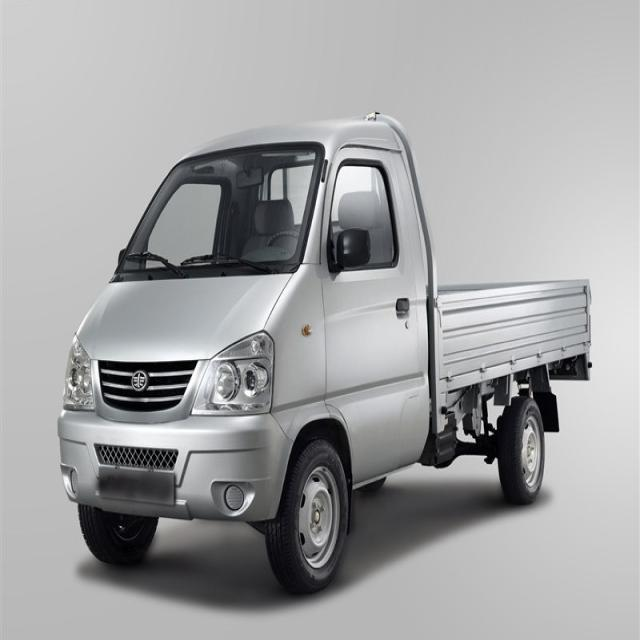front_bumper: (51, 403, 302, 526)
front_glass: (113, 138, 327, 284)
front_left_side_door: (315, 134, 428, 484)
front_left_side_light: (187, 327, 280, 420)
front_left_side_mirror: (328, 228, 374, 277)
front_right_side_light: (60, 327, 98, 413)
wheel: (262, 431, 355, 592), (489, 389, 557, 504), (78, 508, 160, 562)
